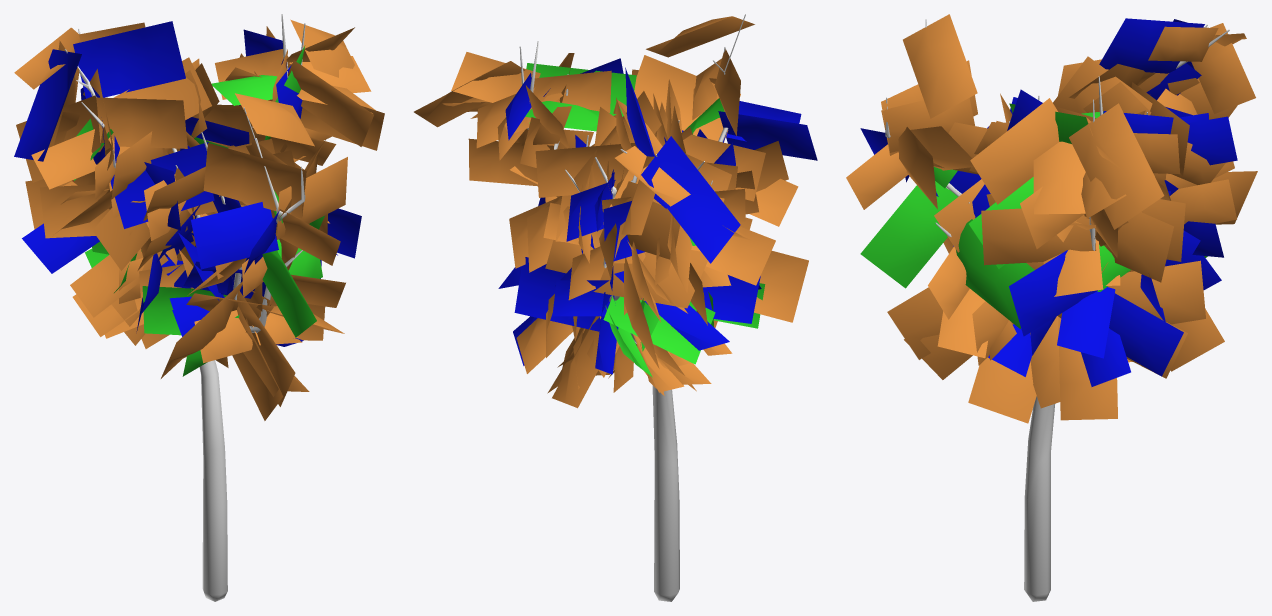
The model's file is Boom10.fbx.
The picture shows the model from 3 angles, left to right: view 1: azimuth 30°, elevation 25°; view 2: azimuth 150°, elevation 25°; view 3: azimuth 270°, elevation 25°; orthographic projection. The views are drawn at different scales.
Visible parts, largest first — view 1: Boom4_LOD0; view 2: Boom4_LOD0; view 3: Boom4_LOD0.
Part boxes in pixels (x1,y1,x2,y2): Boom4_LOD0: (14, 14, 384, 601); Boom4_LOD0: (414, 14, 817, 601); Boom4_LOD0: (846, 14, 1257, 601).
Size of what is drawn, in the model's own units: 1837 by 3089 by 1982.
